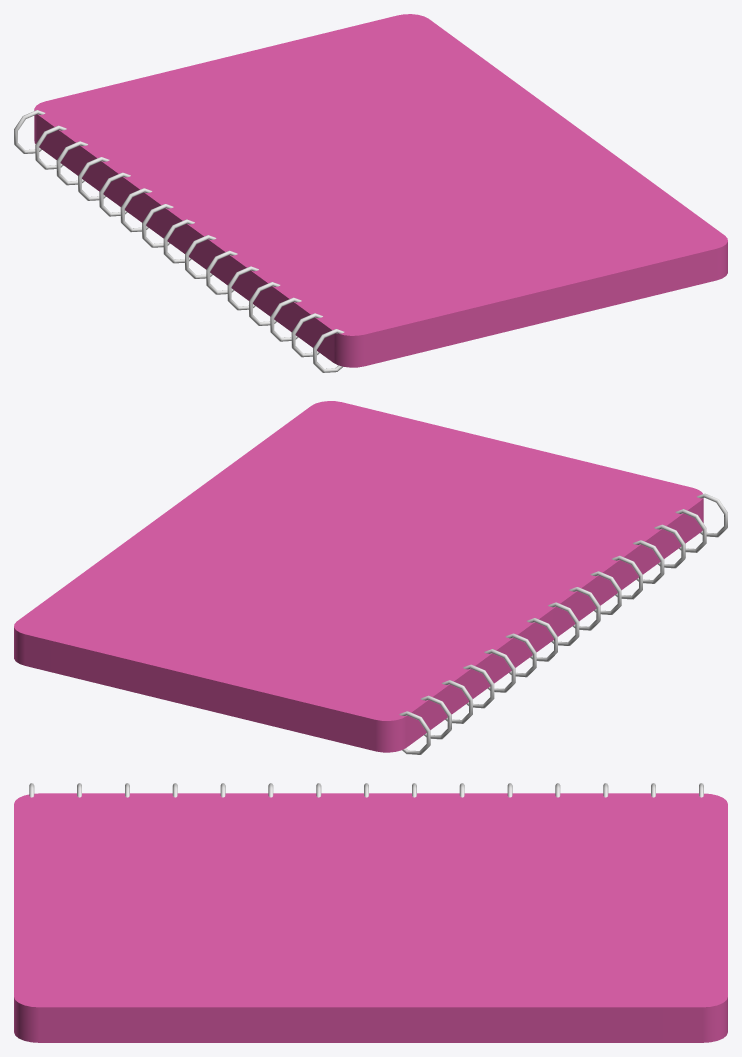
File: Cahier.fbx
The picture shows the model from 3 angles, top to bottom: view 1: azimuth 30°, elevation 25°; view 2: azimuth 150°, elevation 25°; view 3: azimuth 270°, elevation 25°; orthographic projection. The views are drawn at different scales.
Parts seen in each view (by area): view 1: pCube116; view 2: pCube116; view 3: pCube116.
Part boxes in pixels (x1,y1,x2,y2): pCube116: (34,14,727,367); pCube116: (14,401,703,752); pCube116: (14,793,727,1042).
Bounding box in the file's own units: 0.2424 × 0.0241 × 0.3224.
